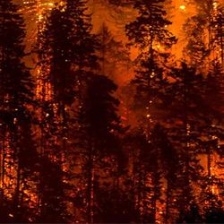fire: (31, 2, 50, 74), (200, 143, 224, 195), (176, 2, 190, 18)
